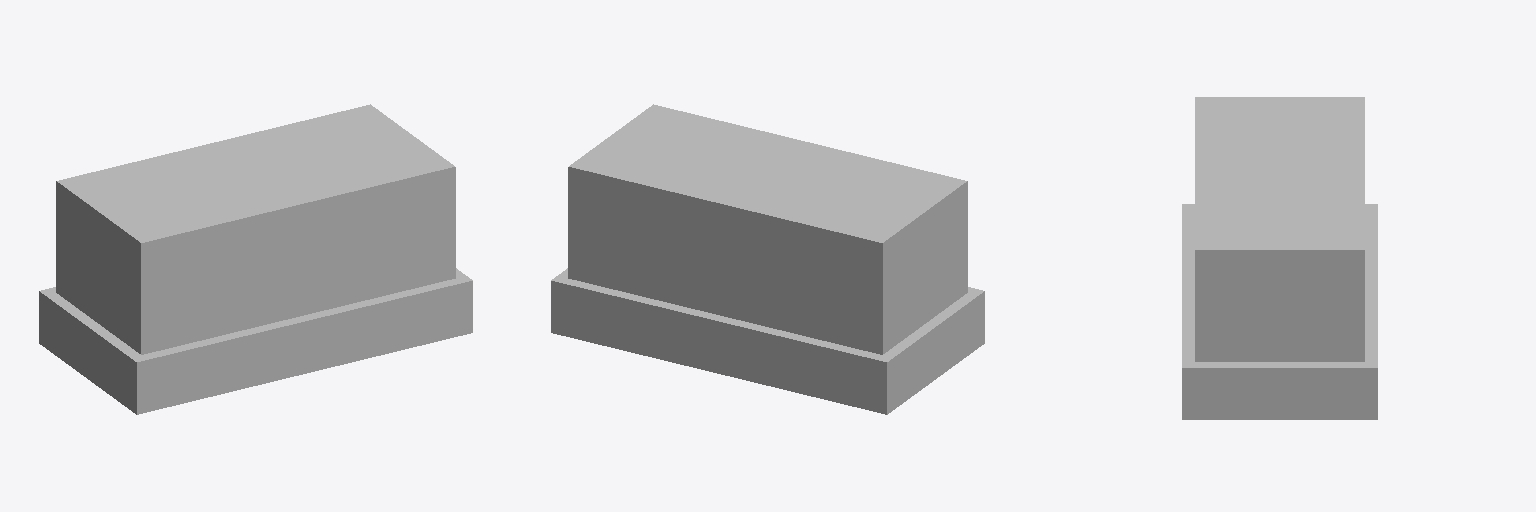
File: statue_02.obj
The picture shows the model from 3 angles: view 1: azimuth 30°, elevation 25°; view 2: azimuth 150°, elevation 25°; view 3: azimuth 270°, elevation 25°; orthographic projection.
Parts seen in each view (by area): view 1: Plane.001; view 2: Plane.001; view 3: Plane.001.
Part boxes in pixels (x1,y1,x2,y2): Plane.001: (39, 104, 472, 414); Plane.001: (551, 104, 984, 414); Plane.001: (1182, 97, 1377, 419).
Bounding box in the file's own units: 2.14 × 1 × 1.08.